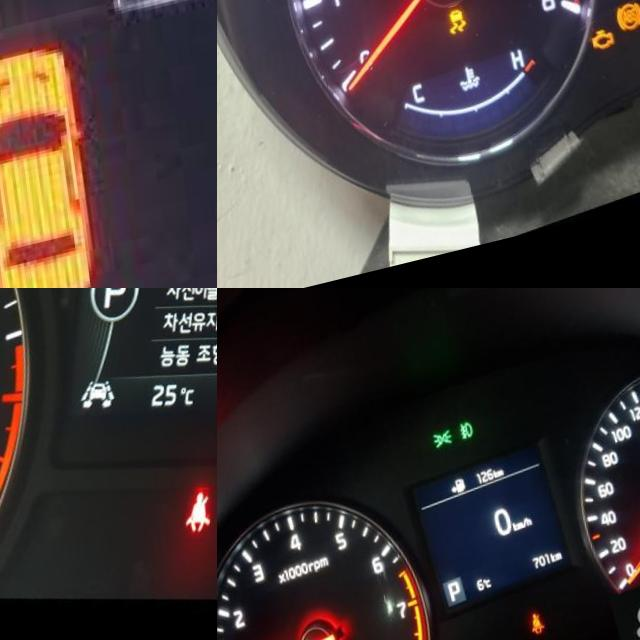FrontFogLight: (450, 437, 466, 459)
SideLamp: (423, 442, 446, 466)
